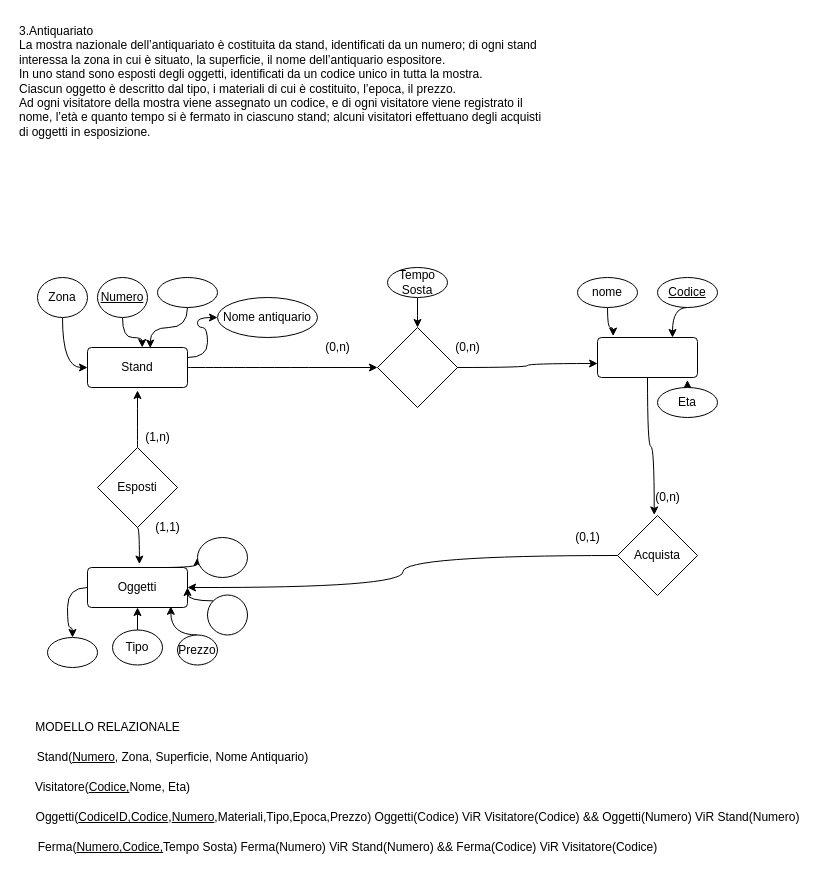
Some shapes in this 824 by 874 pixel diagram are drawn without their labels. The centre of each missing label's shape, as x and y in pixels:
Codice ID: point 72,652
Epoca: point 227,614
Ferma: point 417,367
Materiali: point 222,557
Superficie: point 187,292
Visitatore: point 647,357
